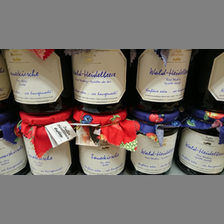jam: (2, 50, 71, 115), (66, 49, 131, 114), (72, 109, 134, 174), (15, 110, 76, 175), (132, 49, 193, 111), (128, 110, 180, 175), (175, 107, 224, 175)
